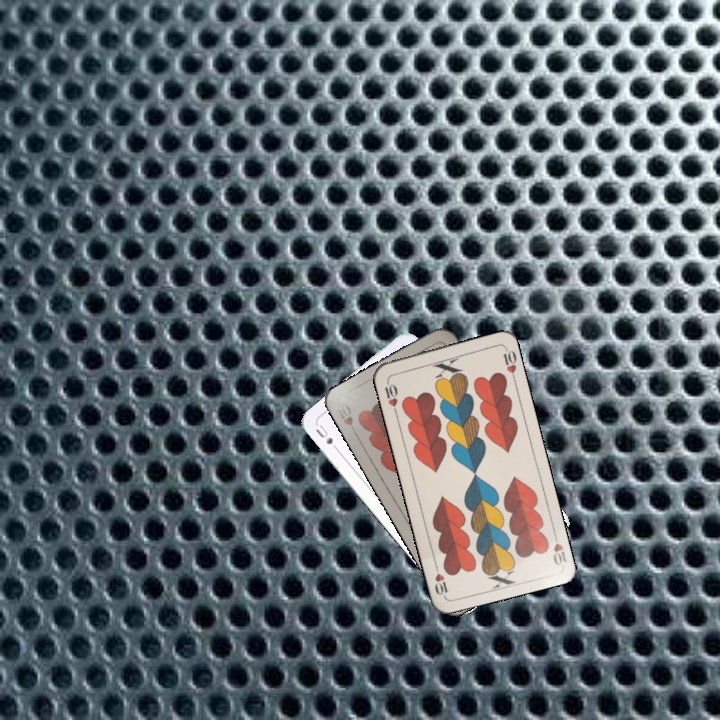H10: (332, 399, 360, 438), (549, 527, 569, 568), (380, 376, 400, 416)
SU: (311, 420, 343, 456)
